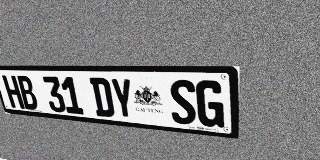1: (59, 77, 84, 115)
3: (42, 76, 67, 113)
B: (16, 76, 39, 110)
D: (89, 77, 115, 118)
G: (196, 80, 224, 128)
H: (2, 75, 25, 109)
S: (169, 79, 197, 125)
Y: (109, 78, 136, 120)
